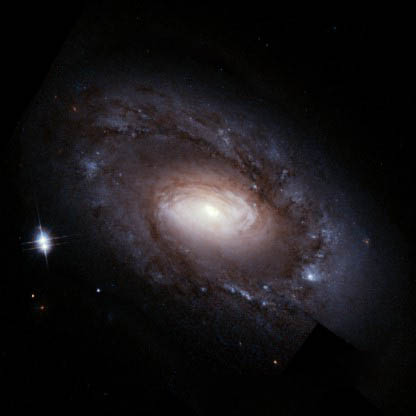NGC 4102: (27, 52, 380, 343)
